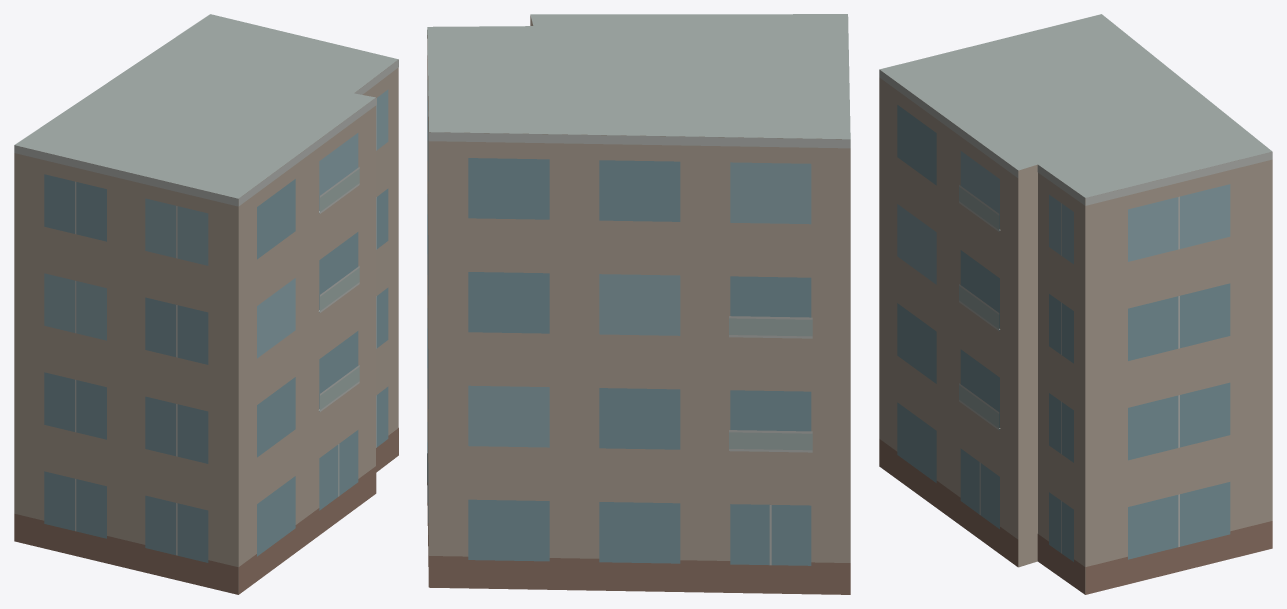
The model's file is survey-upis-32468868.glb.
3 renders of one model, left to right at view 1: azimuth 30°, elevation 25°; view 2: azimuth 150°, elevation 25°; view 3: azimuth 270°, elevation 25°, orthographic. The views are drawn at different scales.
Visible parts, largest first — view 1: survey-upis-32468868.tmp; view 2: survey-upis-32468868.tmp; view 3: survey-upis-32468868.tmp.
Part boxes in pixels (x1=…): survey-upis-32468868.tmp: x1=14, y1=14, x2=398, y2=594; survey-upis-32468868.tmp: x1=427, y1=14, x2=850, y2=594; survey-upis-32468868.tmp: x1=879, y1=14, x2=1272, y2=594.
Bounding box in the file's own units: 12.14 × 12.2 × 10.97.
